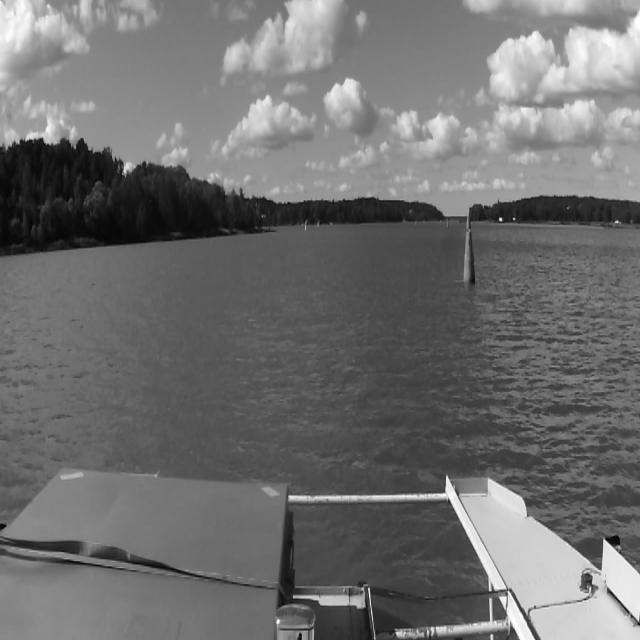buoy: (464, 214, 475, 283), (315, 219, 319, 229), (304, 219, 307, 230)
